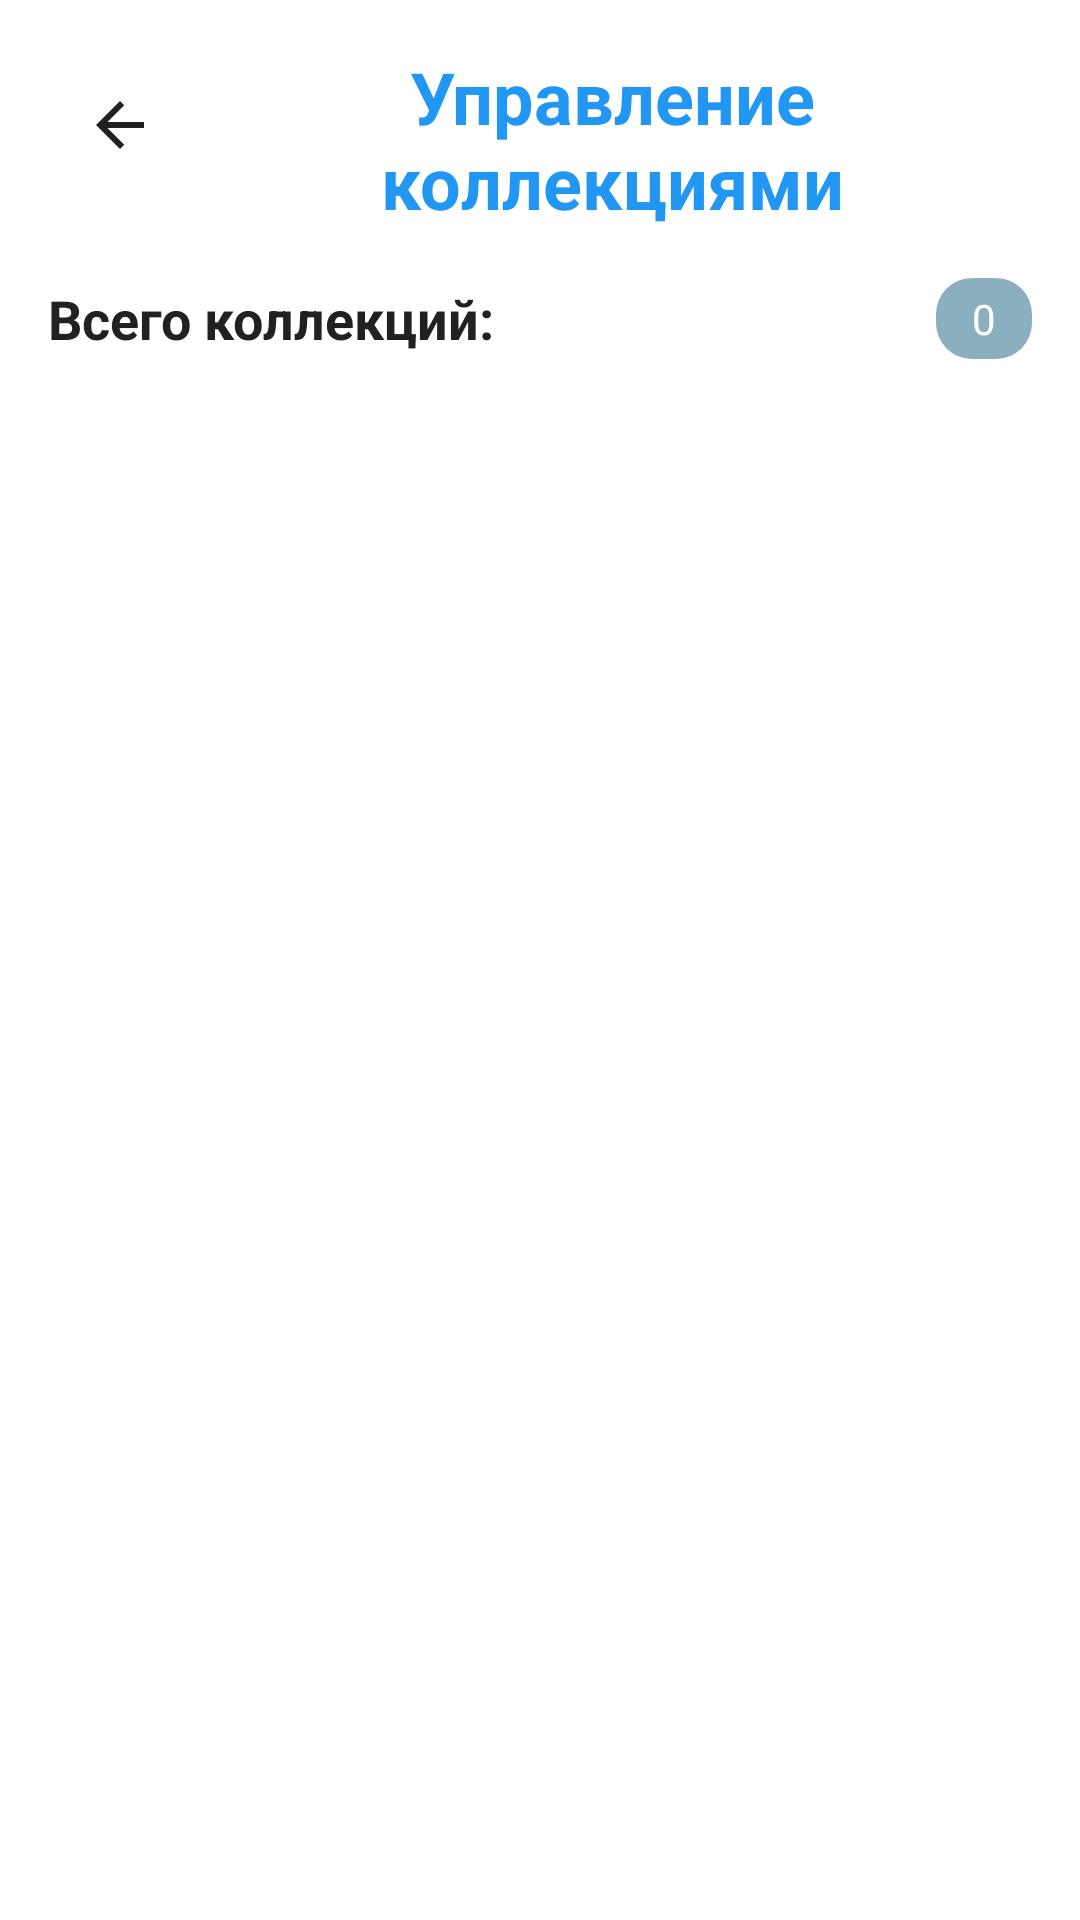

Screen size 1080*1920. Icon name, then its center in pixels as (x,y):
Назад: (120,125)
